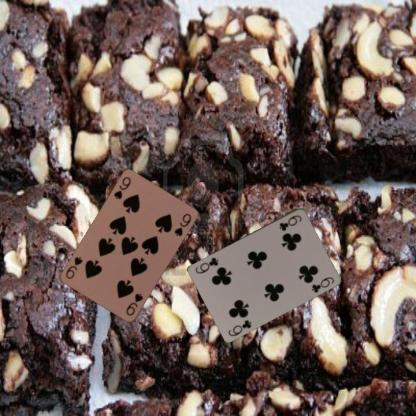6c: (226, 318, 253, 338), (277, 212, 303, 232)
9s: (124, 291, 145, 317), (111, 174, 132, 200)
